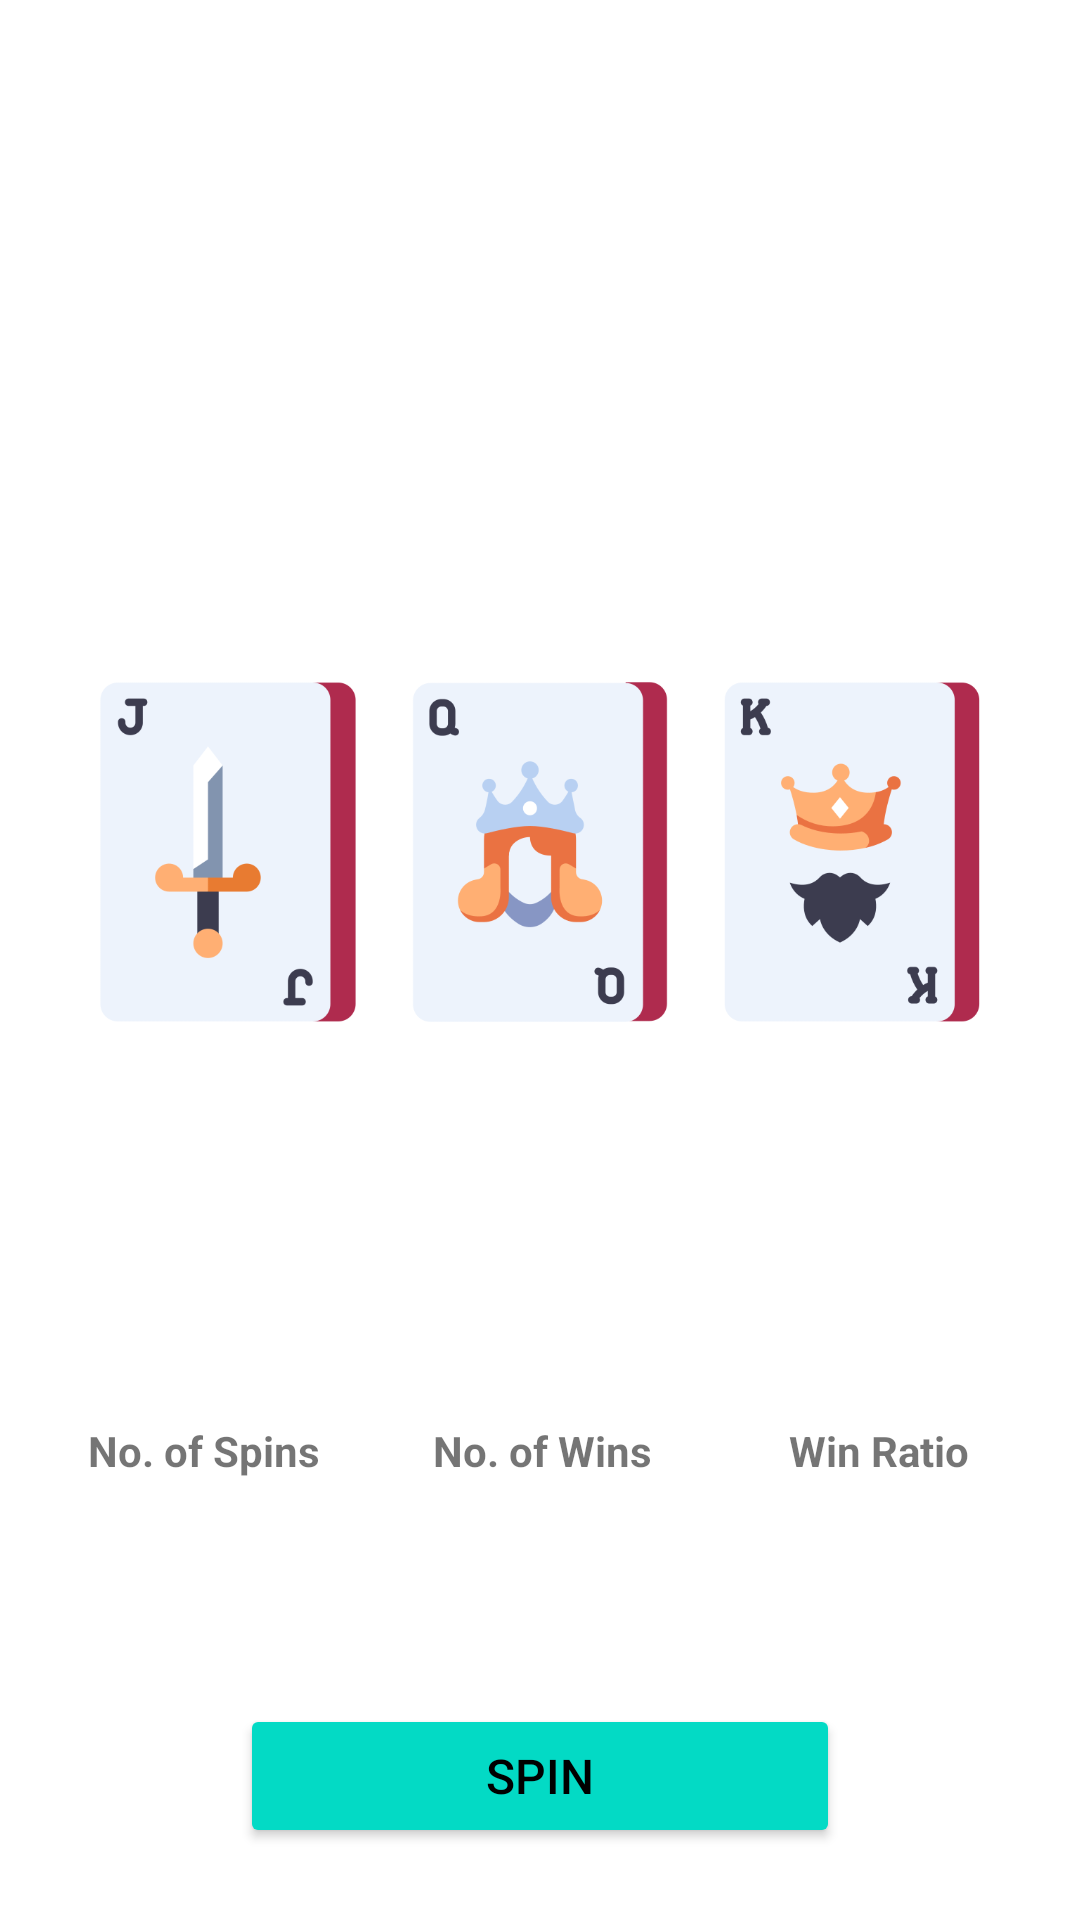

Where icons sit on this 1080 × 1920 app screen, as bbox(x1, y1, x2, y2):
poker: bbox(100, 682, 356, 1022), bbox(413, 682, 668, 1022), bbox(725, 682, 980, 1022)
